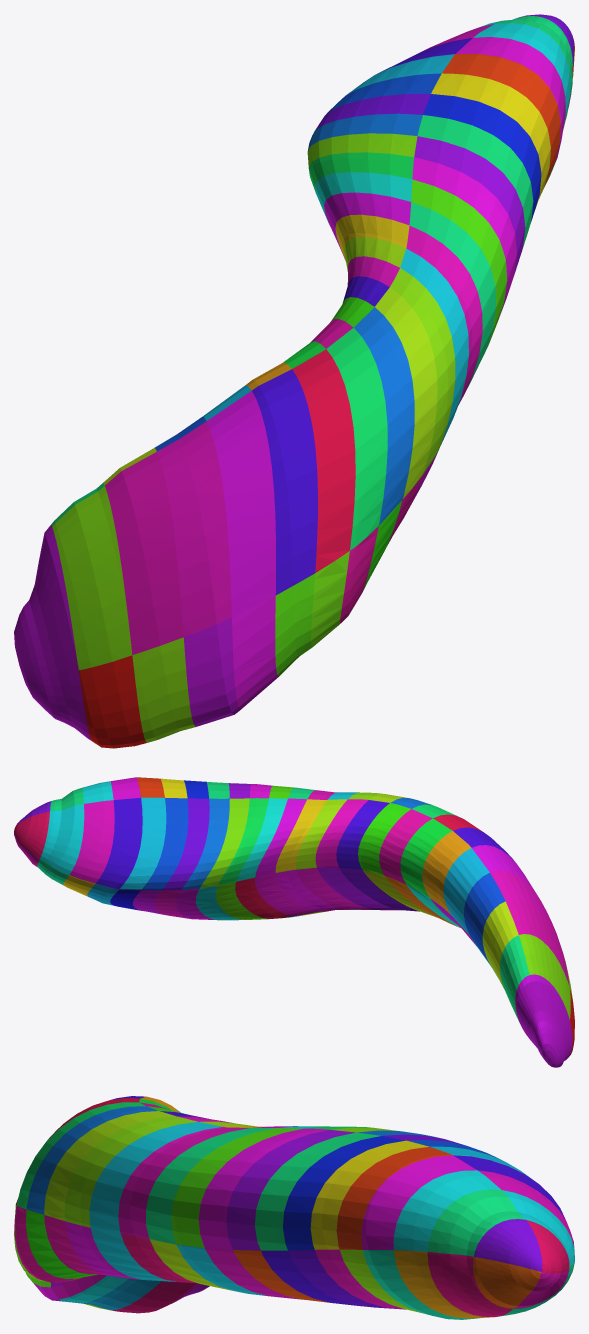
The model's file is pancreas-male-vu.glb.
The picture shows the model from 3 angles, top to bottom: view 1: azimuth 30°, elevation 25°; view 2: azimuth 150°, elevation 25°; view 3: azimuth 270°, elevation 25°; orthographic projection. The views are drawn at different scales.
Visible parts, largest first — view 1: 22D, 23D, 21D, 24D, 20D, world, 19D, 18D, 17D, 16D, 23A, 24A (+30 smaller); view 2: world, 4C, 3C, 5C, 2C, 6C, 7C, 21C, 20C, 19C, 8C, 22C (+41 smaller); view 3: 4D, 2D, 3D, 9D, 14D, 8D, 10D, 11D, 7D, 15D, 13D, 6D (+38 smaller).
Boxes of the visible parts, x1,y1,x2,y2 form: 22D: (157,421,231,636); 23D: (105,452,183,654); 21D: (207,391,275,616); 24D: (52,486,132,670); 20D: (252,369,317,595); world: (14,525,91,740); 19D: (292,349,355,572); 18D: (326,327,387,550); 17D: (354,307,414,525); 16D: (375,287,437,498); 23A: (132,637,195,742); 24A: (78,655,146,748); world: (515,974,572,1067); 4C: (96,797,142,888); 3C: (69,800,114,883); 5C: (120,797,166,889); 2C: (40,804,84,874); 6C: (142,798,188,890); 7C: (162,798,209,890); 21C: (443,848,489,936); 20C: (422,831,471,915); 19C: (400,818,452,897); 8C: (181,798,229,889); 22C: (464,873,505,961); 4D: (361,1155,476,1249); 2D: (428,1189,525,1256); 3D: (393,1170,500,1251); 9D: (226,1129,355,1250); 14D: (89,1122,222,1233); 8D: (255,1132,380,1250); 10D: (198,1128,329,1249); 11D: (171,1128,302,1247); 7D: (283,1136,405,1250); 15D: (64,1116,197,1227); 13D: (118,1127,248,1239); 6D: (310,1140,429,1249).
Size of the model in its own units: 0.1074 by 0.0627 by 0.0821.
